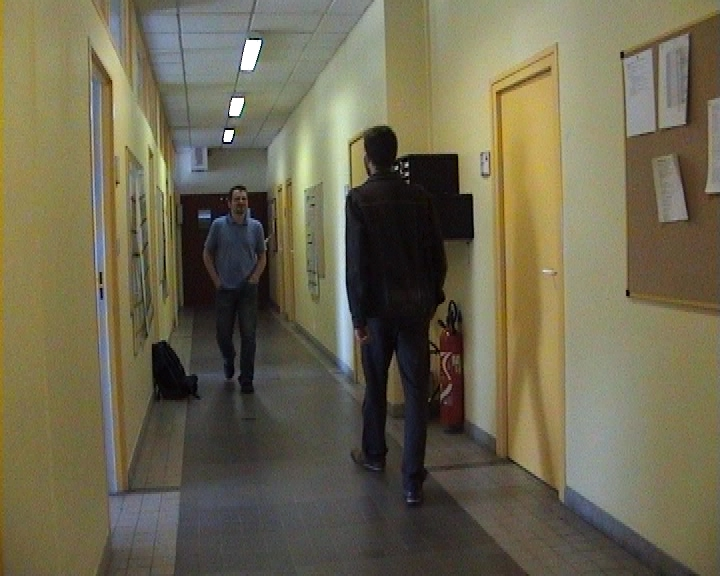leave bag unattended: (135, 265, 310, 422)
